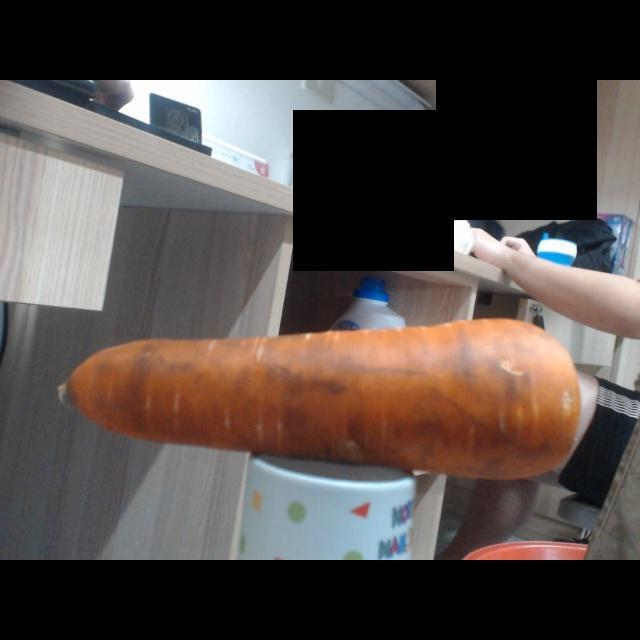carrot: (60, 318, 585, 484)
